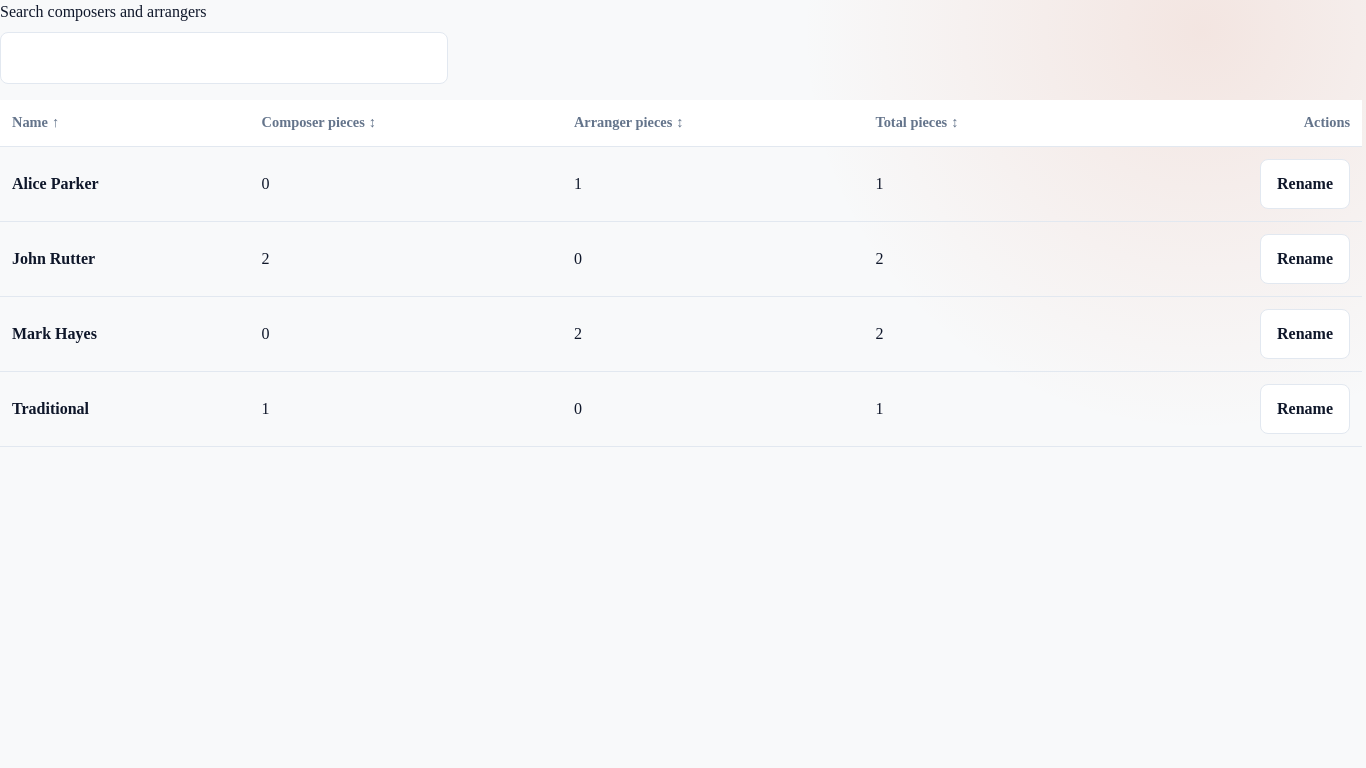
Test case: MusicCredits actionable piece count links › opens rename dialog and retains rename functionality
This screenshot has width=1366, height=768.
Click the button "Rename" in the row of "Alice Parker" at point(1305, 184), box 1260,159 -> 1350,209
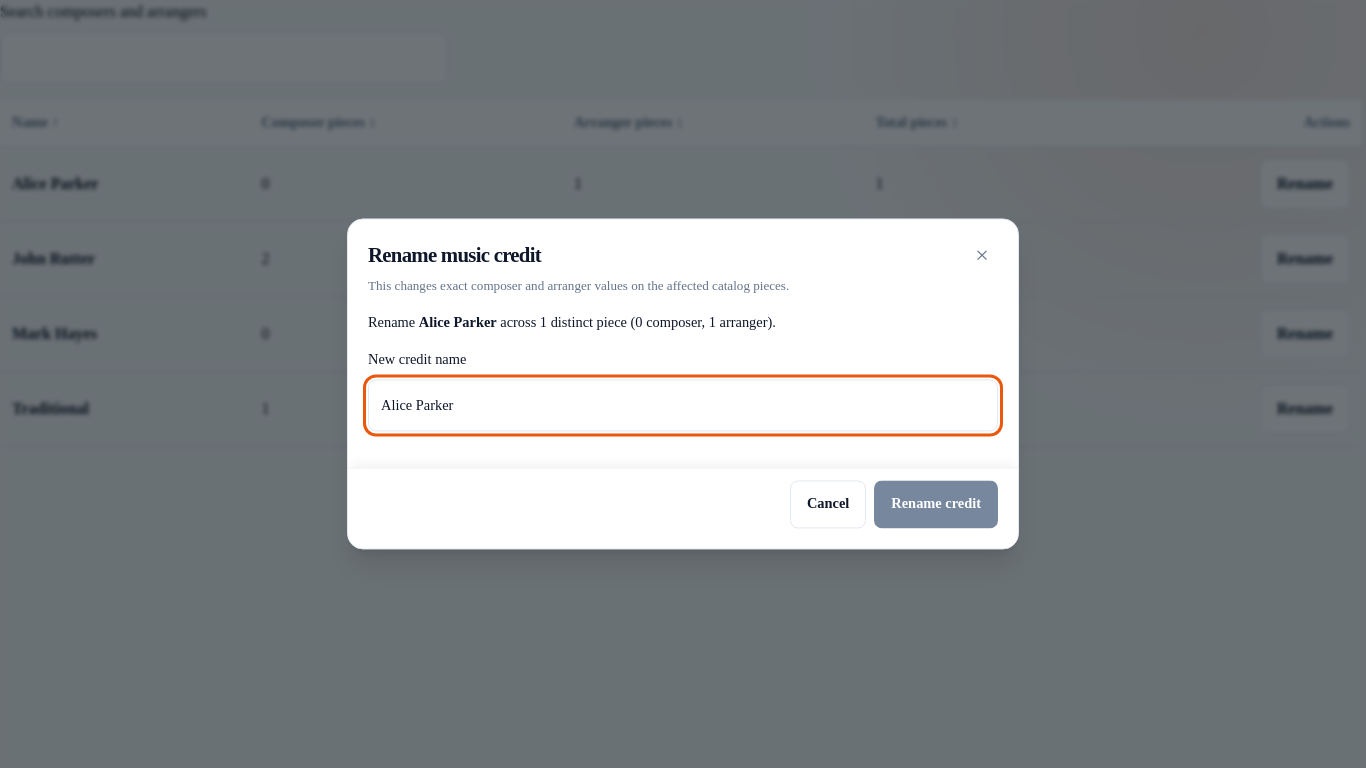
Result: the dialog is shown at 347,218 -> 1019,550
